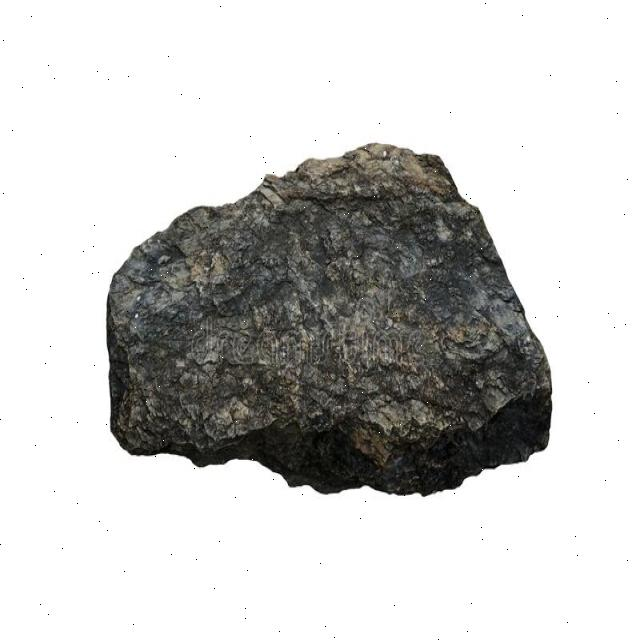Sedimentary: (102, 139, 556, 501)
